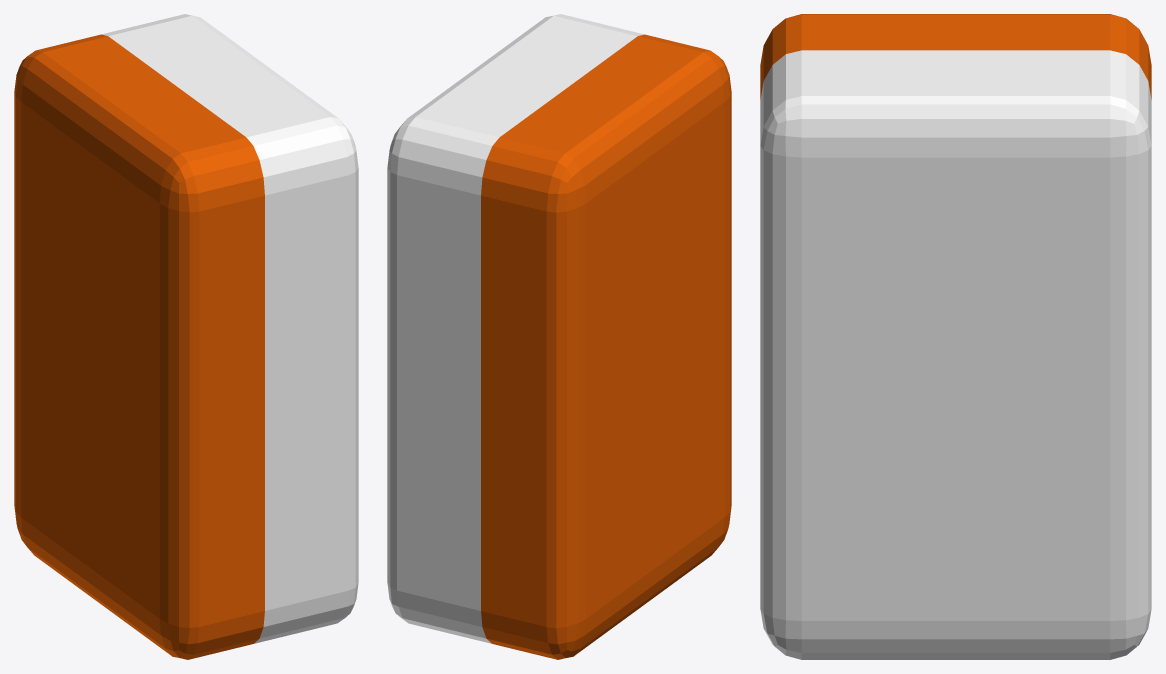
Rendered from Orange3DCard.fbx.
3 views of the same model, side by side, from view 1: azimuth 30°, elevation 25°; view 2: azimuth 150°, elevation 25°; view 3: azimuth 270°, elevation 25° (orthographic). The views are drawn at different scales.
Visible parts, largest first — view 1: 立方体; view 2: 立方体; view 3: 立方体.
Boxes of the visible parts, x1,y1,x2,y2 form: 立方体: (14, 14, 358, 659); 立方体: (387, 14, 731, 659); 立方体: (760, 14, 1151, 659).
Size of the model in its own units: 180 by 452 by 285.
